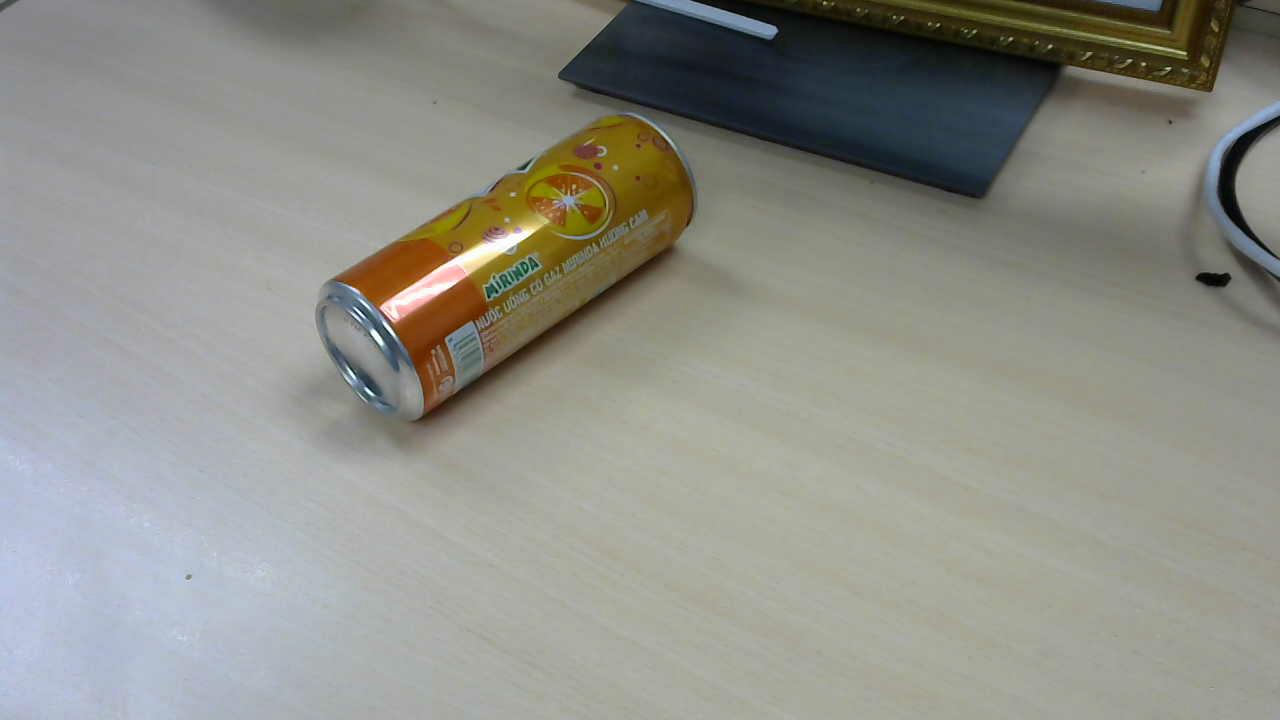Mirinda: (320, 116, 703, 429)
